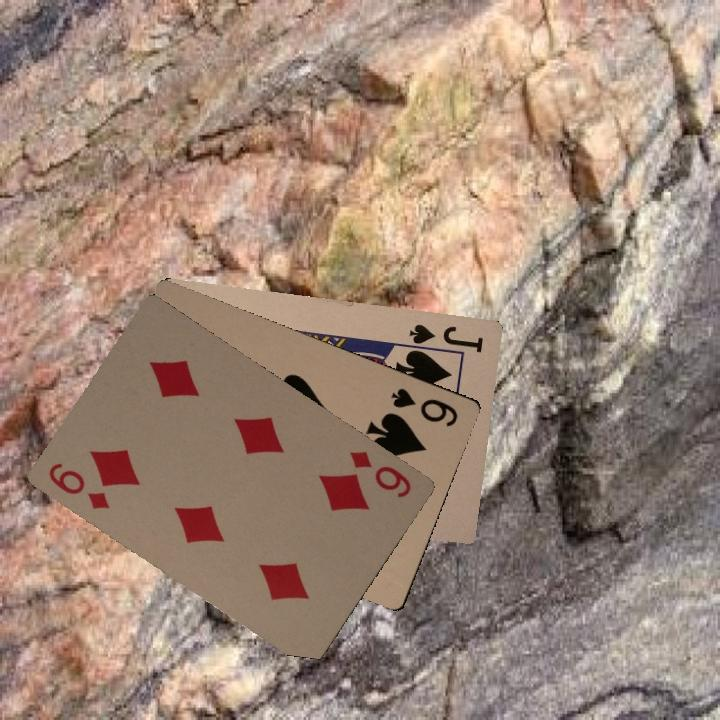6d: (345, 446, 414, 501), (44, 458, 113, 512)
6s: (387, 383, 461, 430)
Js: (405, 319, 486, 359)
